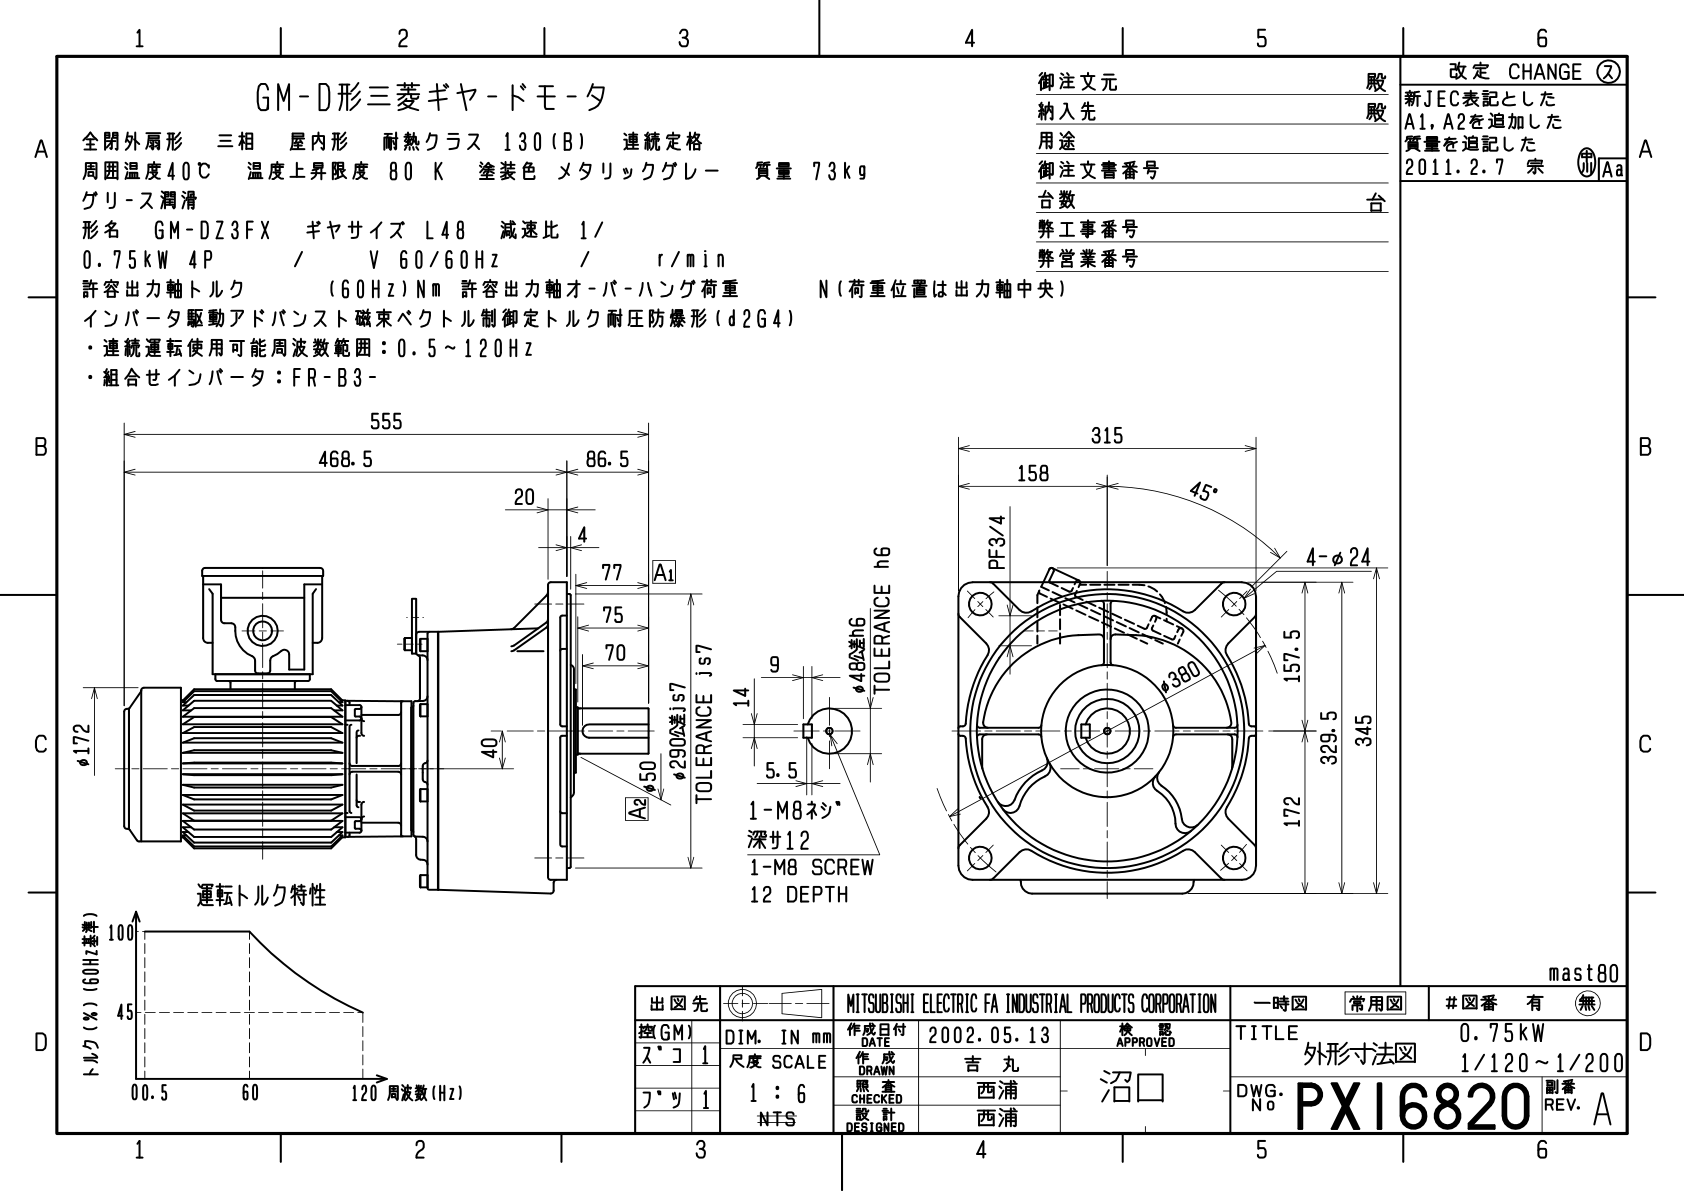GM_D_制御屋内_三相_フランジ: (64, 396, 1392, 963)
